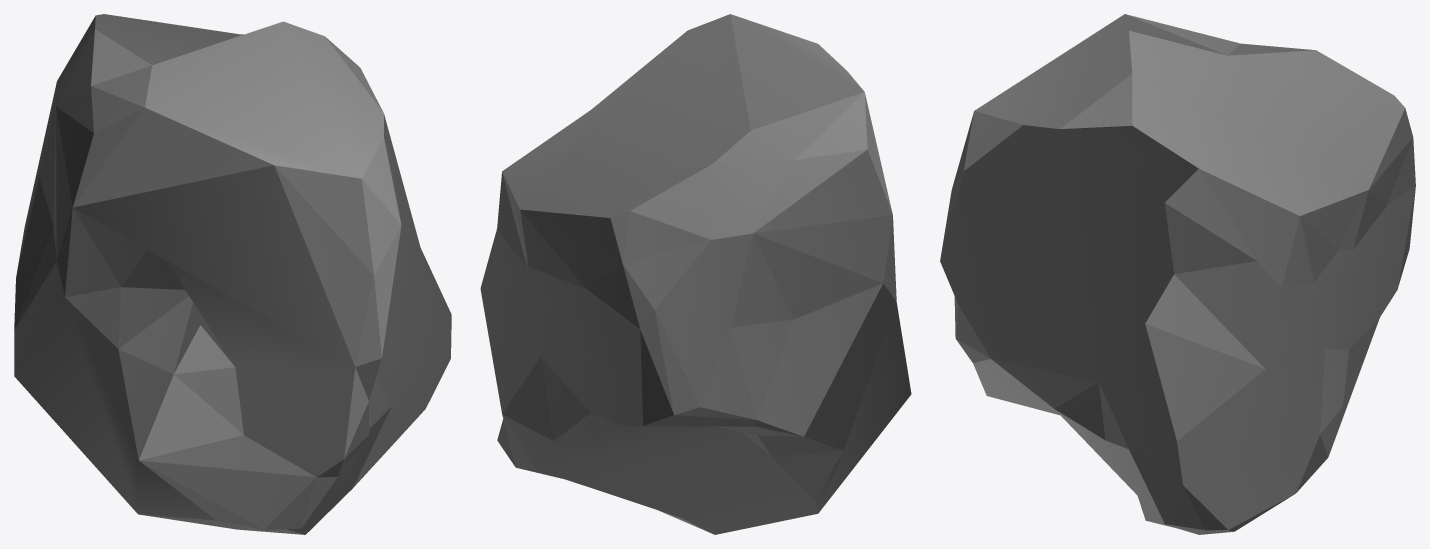
Rendered from rock3-col.glb.
The picture shows the model from 3 angles, left to right: view 1: azimuth 30°, elevation 25°; view 2: azimuth 150°, elevation 25°; view 3: azimuth 270°, elevation 25°; orthographic projection. The views are drawn at different scales.
Parts seen in each view (by area): view 1: rock; view 2: rock; view 3: rock.
Part boxes in pixels (x1=…): rock: x1=14, y1=14, x2=451, y2=534; rock: x1=480, y1=14, x2=911, y2=534; rock: x1=940, y1=14, x2=1415, y2=534.
Size of the model in its own units: 1.61 by 2.05 by 1.86.
1 material, 1 textured.
